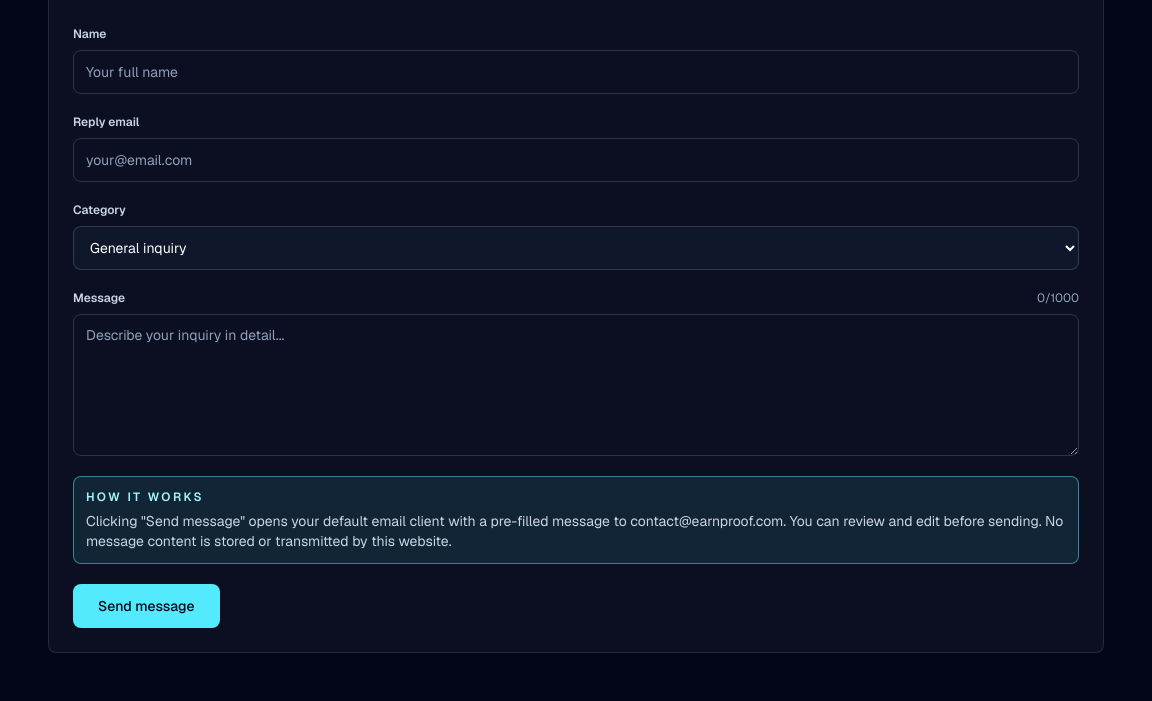
Scenario: ContactPage › clears errors when user corrects input
(page scrolled)
// Submit with empty name
Click the button "Send message".
click(146, 606)  # box [73,584,220,628]
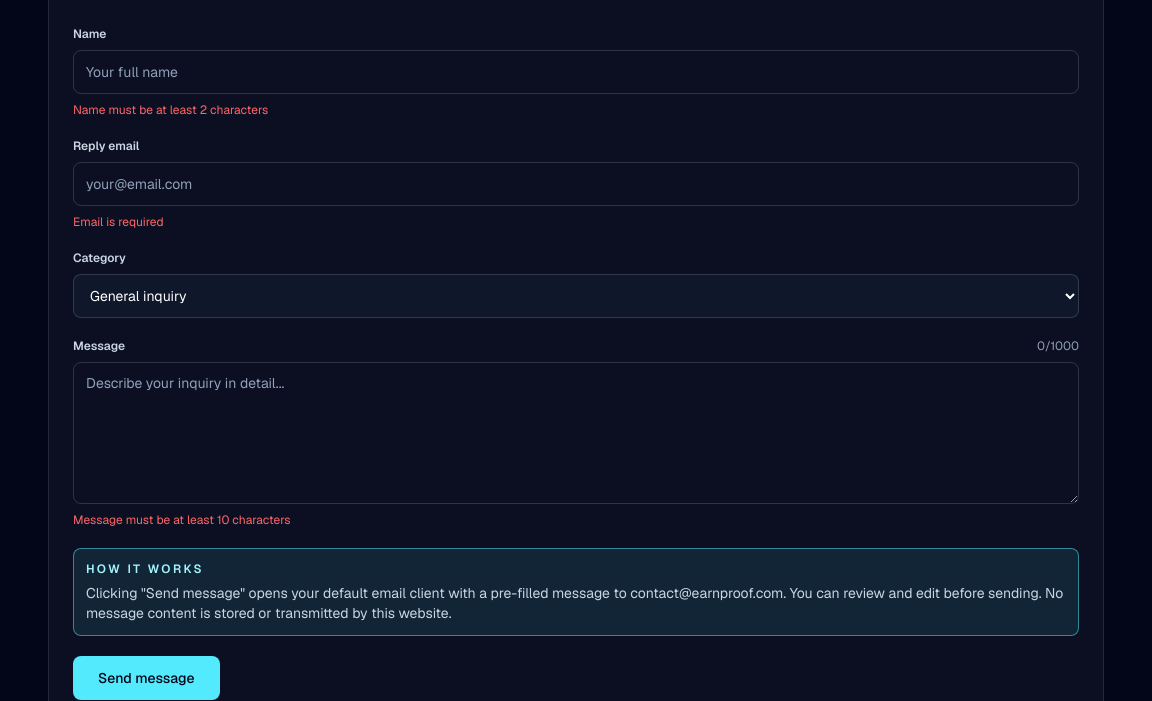
Expected: the text "Name must be at least 2 characters" is shown, [73,102,268,118]
// Correct the input
Type "John Doe" into the field labelled "Name".
click(576, 72); type("John Doe")  # box [73,50,1079,94]
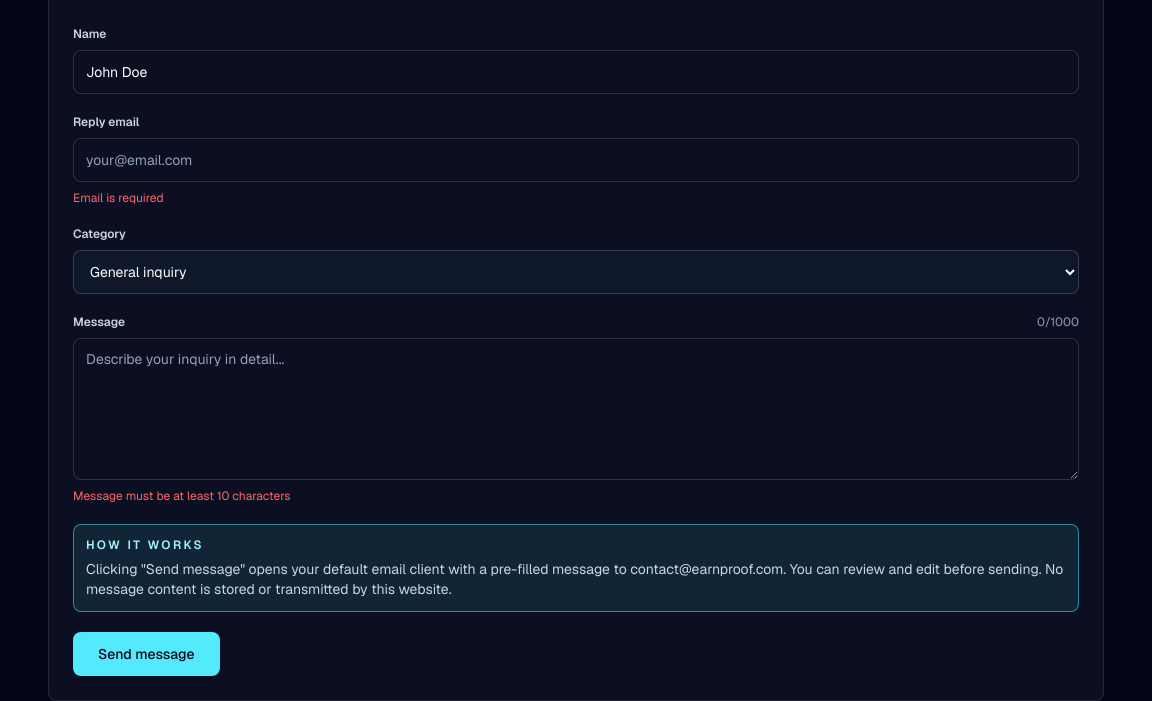
Expected: the text "Name must be at least 2 characters" is gone
